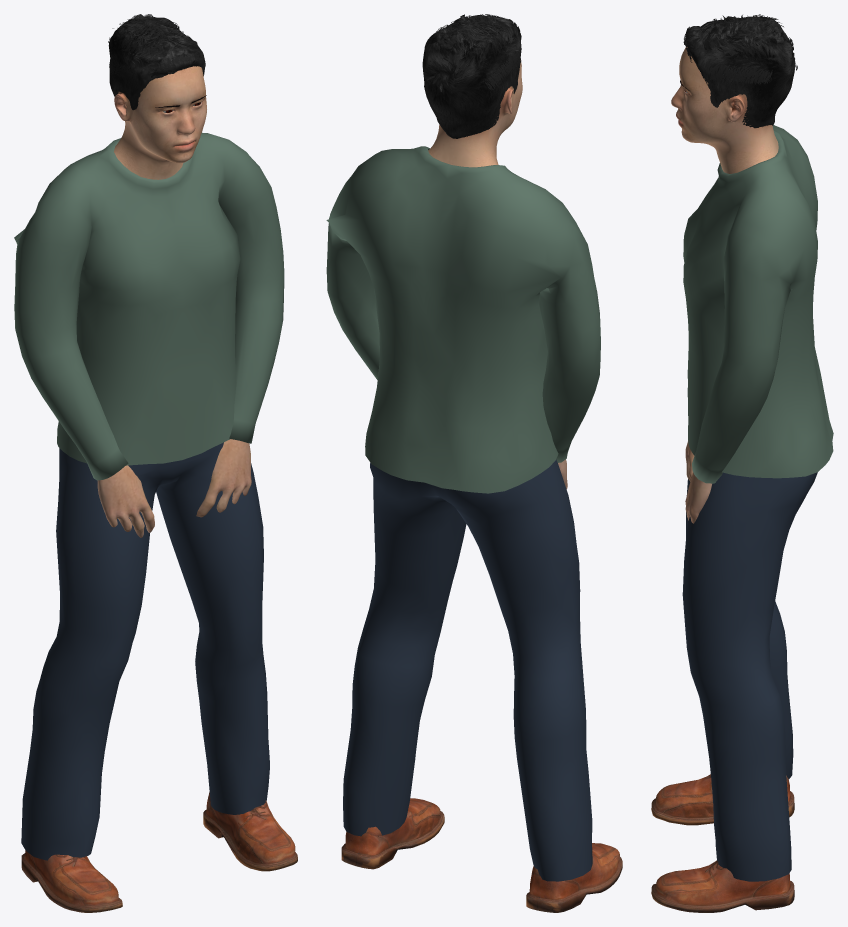
File: silhouette-175.glb
3 views of the same model, side by side, from view 1: azimuth 30°, elevation 25°; view 2: azimuth 150°, elevation 25°; view 3: azimuth 270°, elevation 25° (orthographic).
Visible parts, largest first — view 1: male_casualsuit02_1, male_casualsuit02_2, Sam_|_anatomical_body, shoes01, short01; view 2: male_casualsuit02_1, male_casualsuit02_2, short01, shoes01, Sam_|_anatomical_body; view 3: male_casualsuit02_1, male_casualsuit02_2, short01, shoes01, Sam_|_anatomical_body.
Part boxes in pixels (bbox=[...]): male_casualsuit02_1: bbox=[14, 132, 284, 480]; male_casualsuit02_2: bbox=[21, 442, 269, 860]; Sam_|_anatomical_body: bbox=[97, 66, 251, 537]; shoes01: bbox=[21, 792, 297, 912]; short01: bbox=[108, 14, 205, 110]; male_casualsuit02_1: bbox=[326, 146, 600, 493]; male_casualsuit02_2: bbox=[343, 459, 592, 881]; short01: bbox=[422, 14, 521, 138]; shoes01: bbox=[341, 798, 622, 912]; Sam_|_anatomical_body: bbox=[428, 60, 567, 489]; male_casualsuit02_1: bbox=[683, 125, 833, 483]; male_casualsuit02_2: bbox=[682, 472, 817, 881]; short01: bbox=[683, 14, 797, 128]; shoes01: bbox=[651, 774, 794, 912]; Sam_|_anatomical_body: bbox=[671, 47, 778, 523].
Bounding box in the file's own units: 0.5792 × 1.77 × 0.3488.
9 materials, 6 textured.
